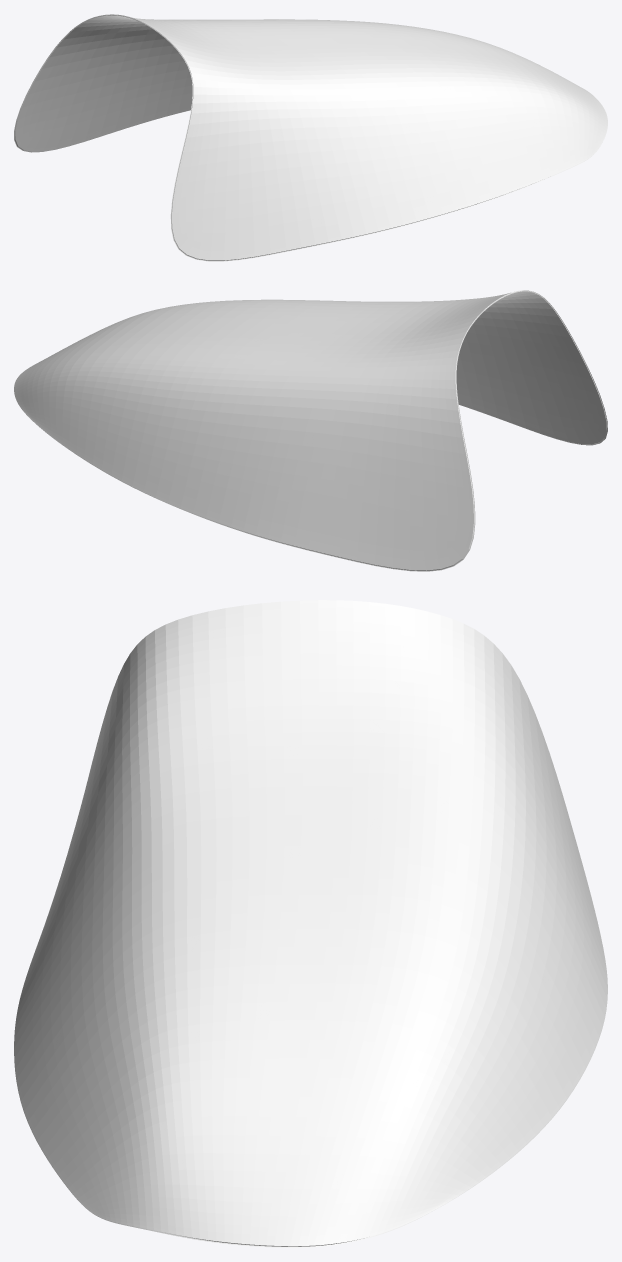
The model's file is frontLeftWHITE.obj.
3 views of the same model, one above another, from view 1: azimuth 30°, elevation 25°; view 2: azimuth 150°, elevation 25°; view 3: azimuth 270°, elevation 25° (orthographic). The views are drawn at different scales.
Visible parts, largest first — view 1: Plane; view 2: Plane; view 3: Plane.
Part boxes in pixels (x1=…): Plane: x1=14, y1=14, x2=607, y2=261; Plane: x1=14, y1=290, x2=607, y2=571; Plane: x1=14, y1=600, x2=607, y2=1247.
Size of the model in its own units: 15.97 by 5.59 by 9.72.
1 material, 1 textured.
